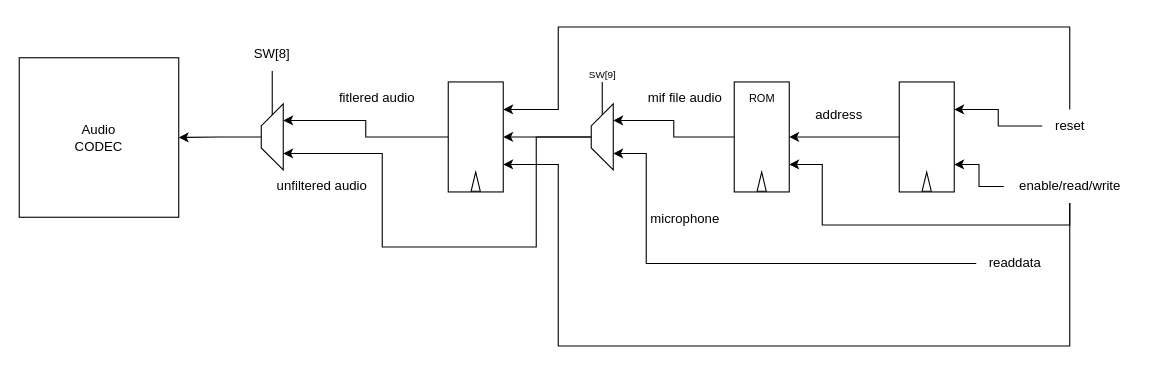
This 1155x374 diagram has some shape labels left out. Each missing label, with the centre of its shape:
Counter: point (926, 136)
Filter: point (475, 136)
